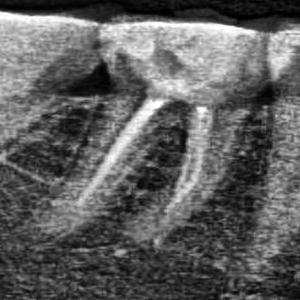tooth: (58, 6, 268, 241), (0, 5, 101, 172)
